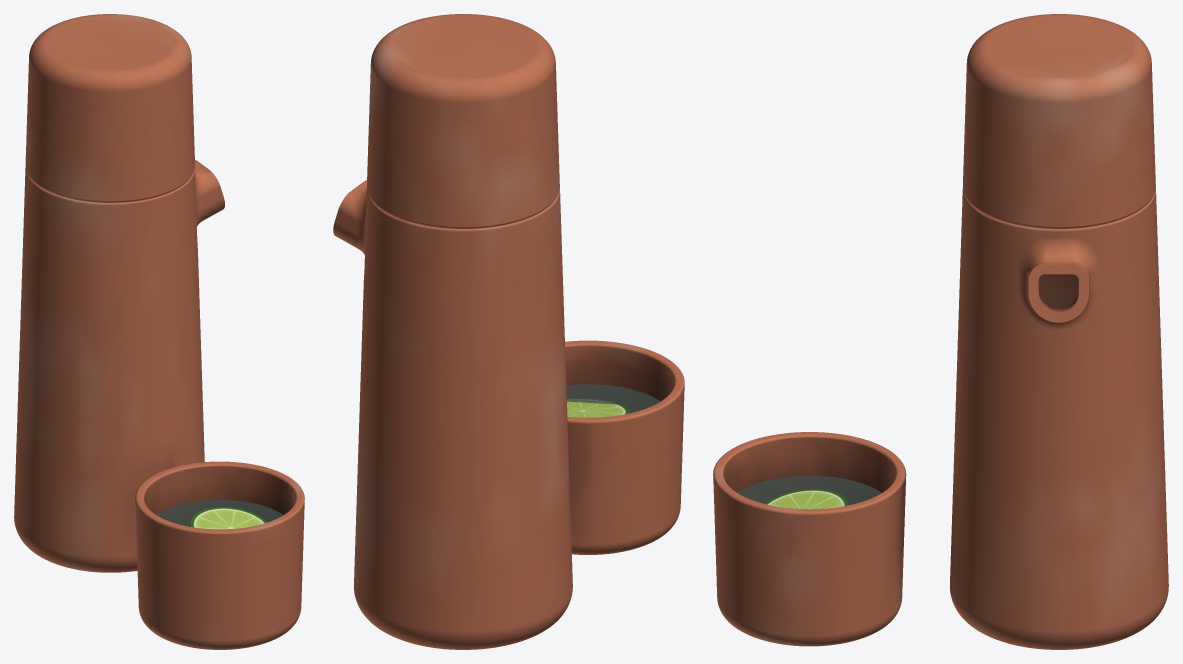
The model's file is cantaro.glb.
The picture shows the model from 3 angles, left to right: view 1: azimuth 30°, elevation 25°; view 2: azimuth 150°, elevation 25°; view 3: azimuth 270°, elevation 25°; orthographic projection. The views are drawn at different scales.
Parts seen in each view (by area): view 1: Vessel, Lid, Cup, Water, Lime; view 2: Vessel, Lid, Cup, Water, Lime; view 3: Vessel, Lid, Cup, Water, Lime.
Boxes of the visible parts, x1=… form: Vessel: x1=14, y1=160, x2=224, y2=572; Lid: x1=25, y1=14, x2=194, y2=202; Cup: x1=135, y1=461, x2=304, y2=649; Water: x1=156, y1=500, x2=283, y2=526; Lime: x1=190, y1=507, x2=266, y2=529; Vessel: x1=333, y1=180, x2=572, y2=649; Lid: x1=367, y1=14, x2=559, y2=228; Cup: x1=565, y1=340, x2=684, y2=554; Water: x1=566, y1=384, x2=660, y2=413; Lime: x1=567, y1=398, x2=629, y2=417; Vessel: x1=950, y1=188, x2=1168, y2=649; Lid: x1=963, y1=14, x2=1155, y2=228; Cup: x1=713, y1=432, x2=906, y2=646; Water: x1=737, y1=475, x2=881, y2=504; Lime: x1=764, y1=488, x2=848, y2=509.
Size of the model in its own units: 115 by 288 by 210.
